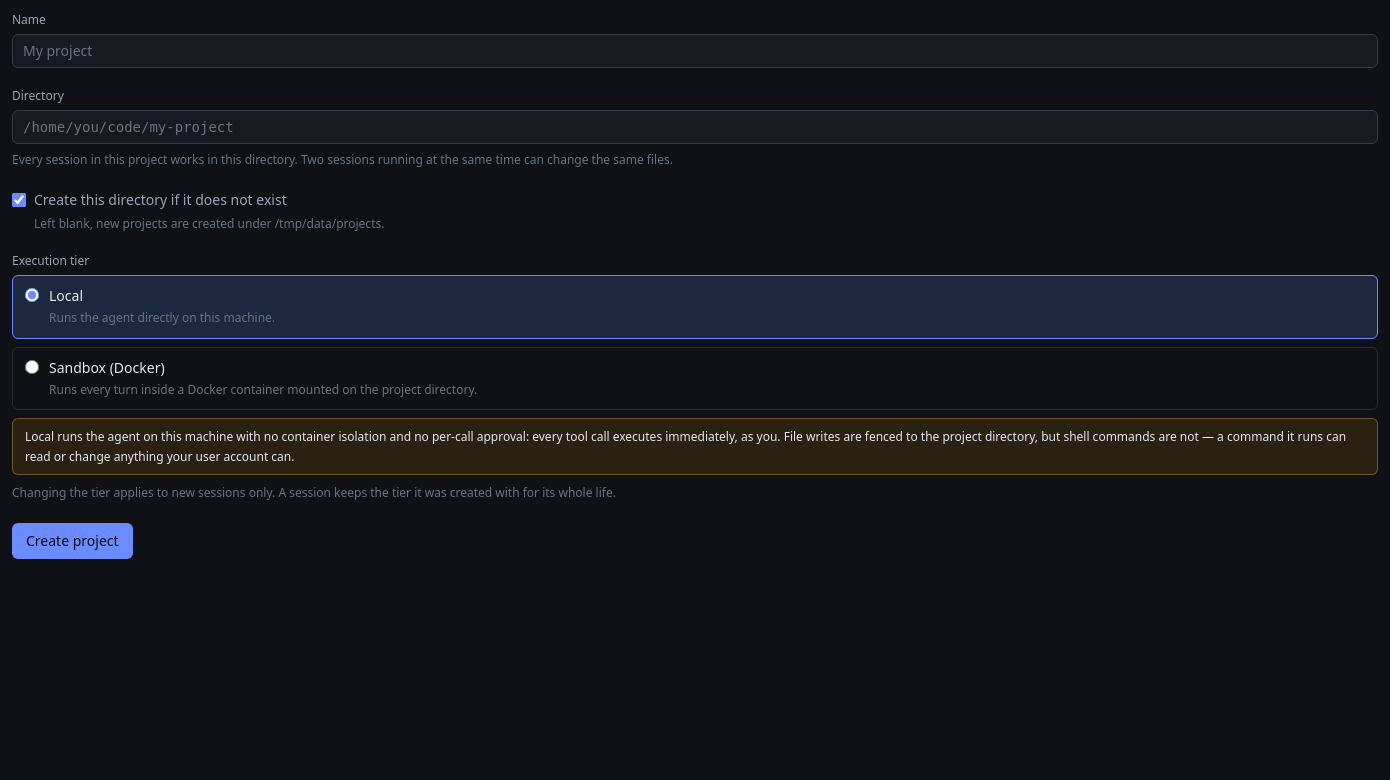
it: creating a project › reports a missing name and a bad directory in one pass
The image size is (1390, 780).
Type "relative" into the field labelled "Directory". click: [695, 127]
box: [12,110,1378,144]
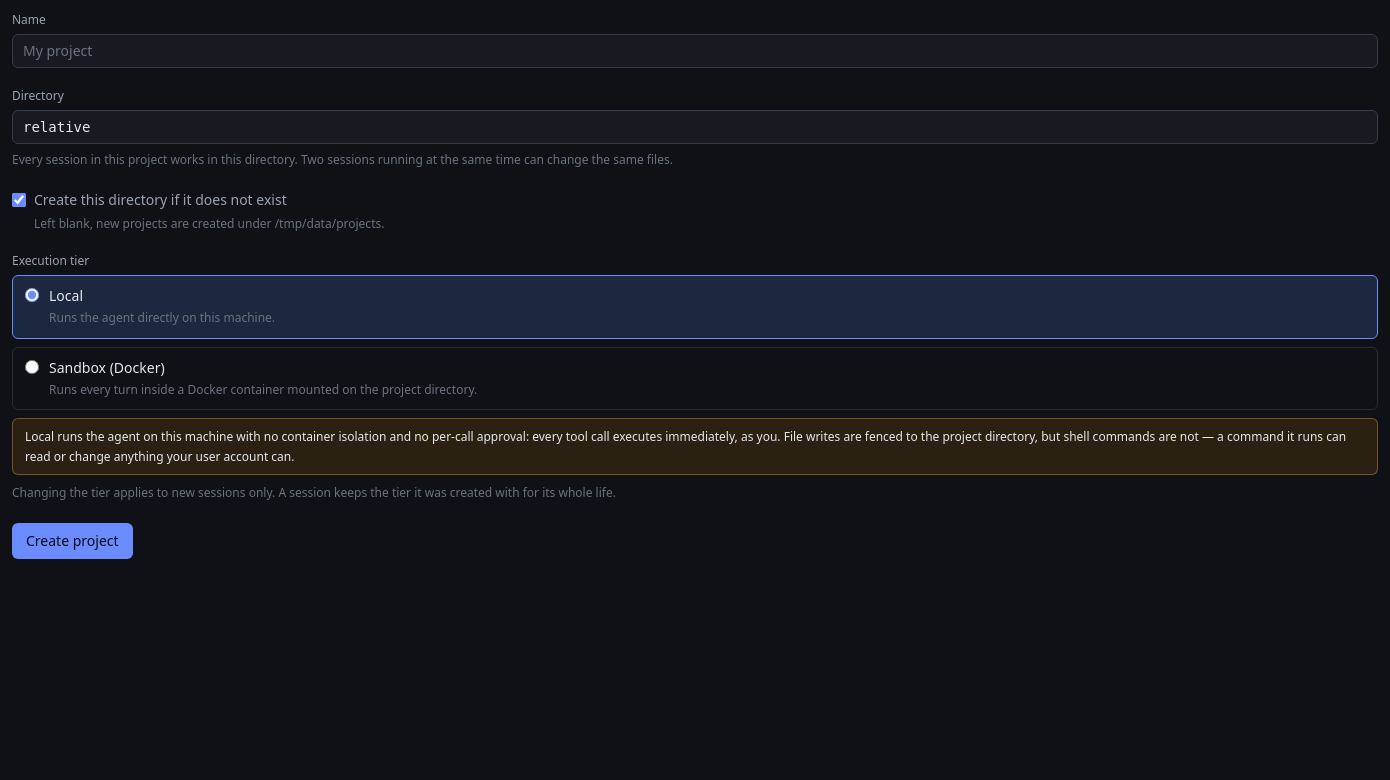
Click the button "Create project". click: [72, 540]
box: [12,522,133,558]
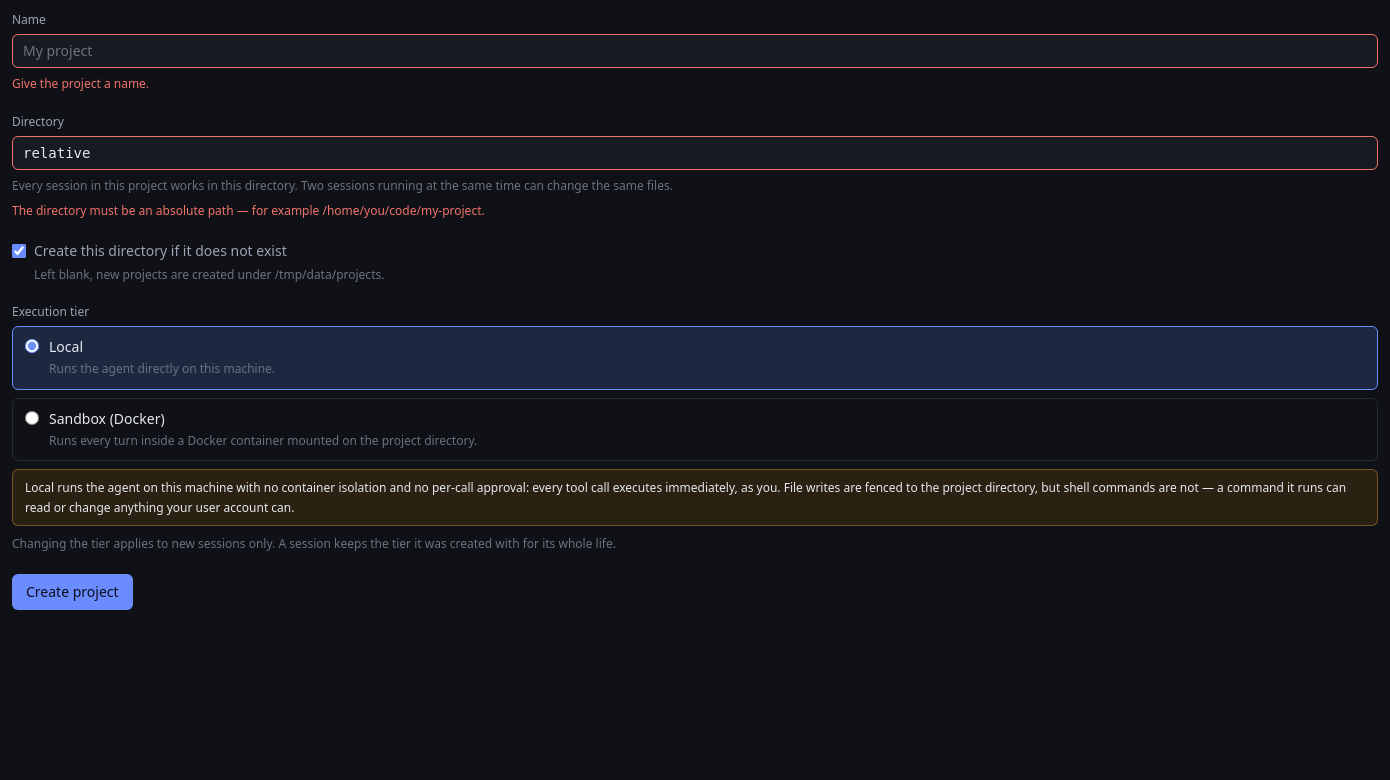
Now the number of messages is 2, box [12,75,149,92]; [12,202,485,219]
